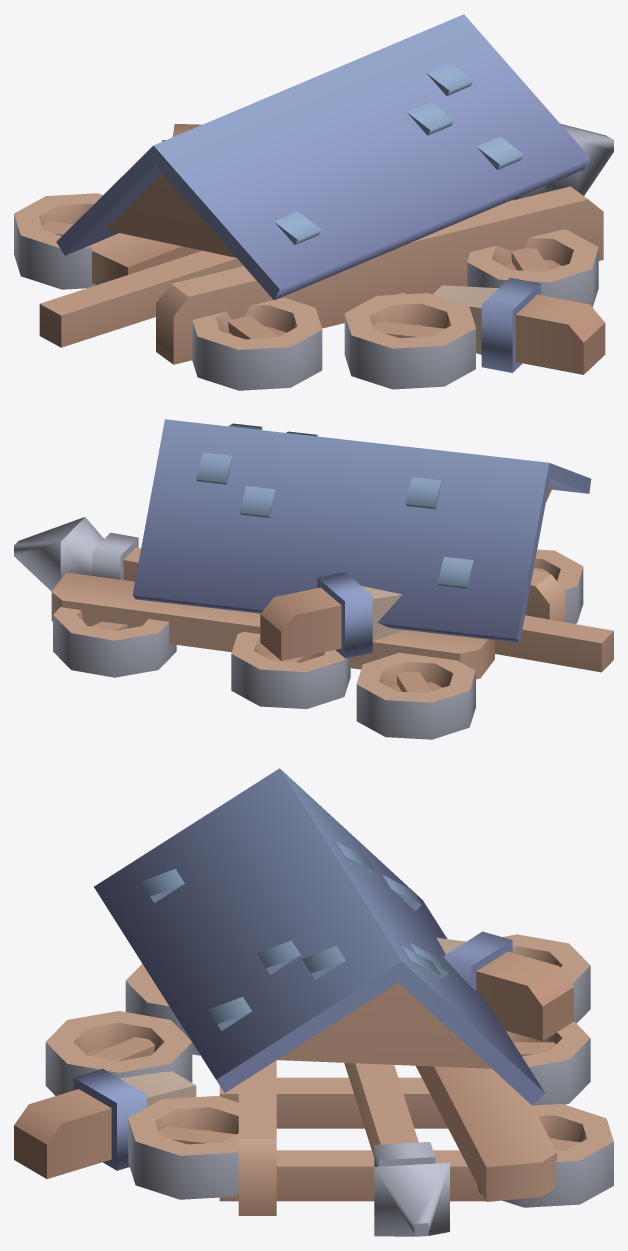
The model's file is siege-ram-demolished.glb.
3 renders of one model, top to bottom at view 1: azimuth 30°, elevation 25°; view 2: azimuth 150°, elevation 25°; view 3: azimuth 270°, elevation 25°, orthographic. The views are drawn at different scales.
Parts seen in each view (by area): view 1: siege-ram-demolished; view 2: siege-ram-demolished; view 3: siege-ram-demolished.
Part boxes in pixels (<box>): siege-ram-demolished: <box>14,14,613,390</box>; siege-ram-demolished: <box>14,419,613,739</box>; siege-ram-demolished: <box>14,768,613,1236</box>.
Bounding box in the file's own units: 2.08 × 0.7231 × 1.65.
